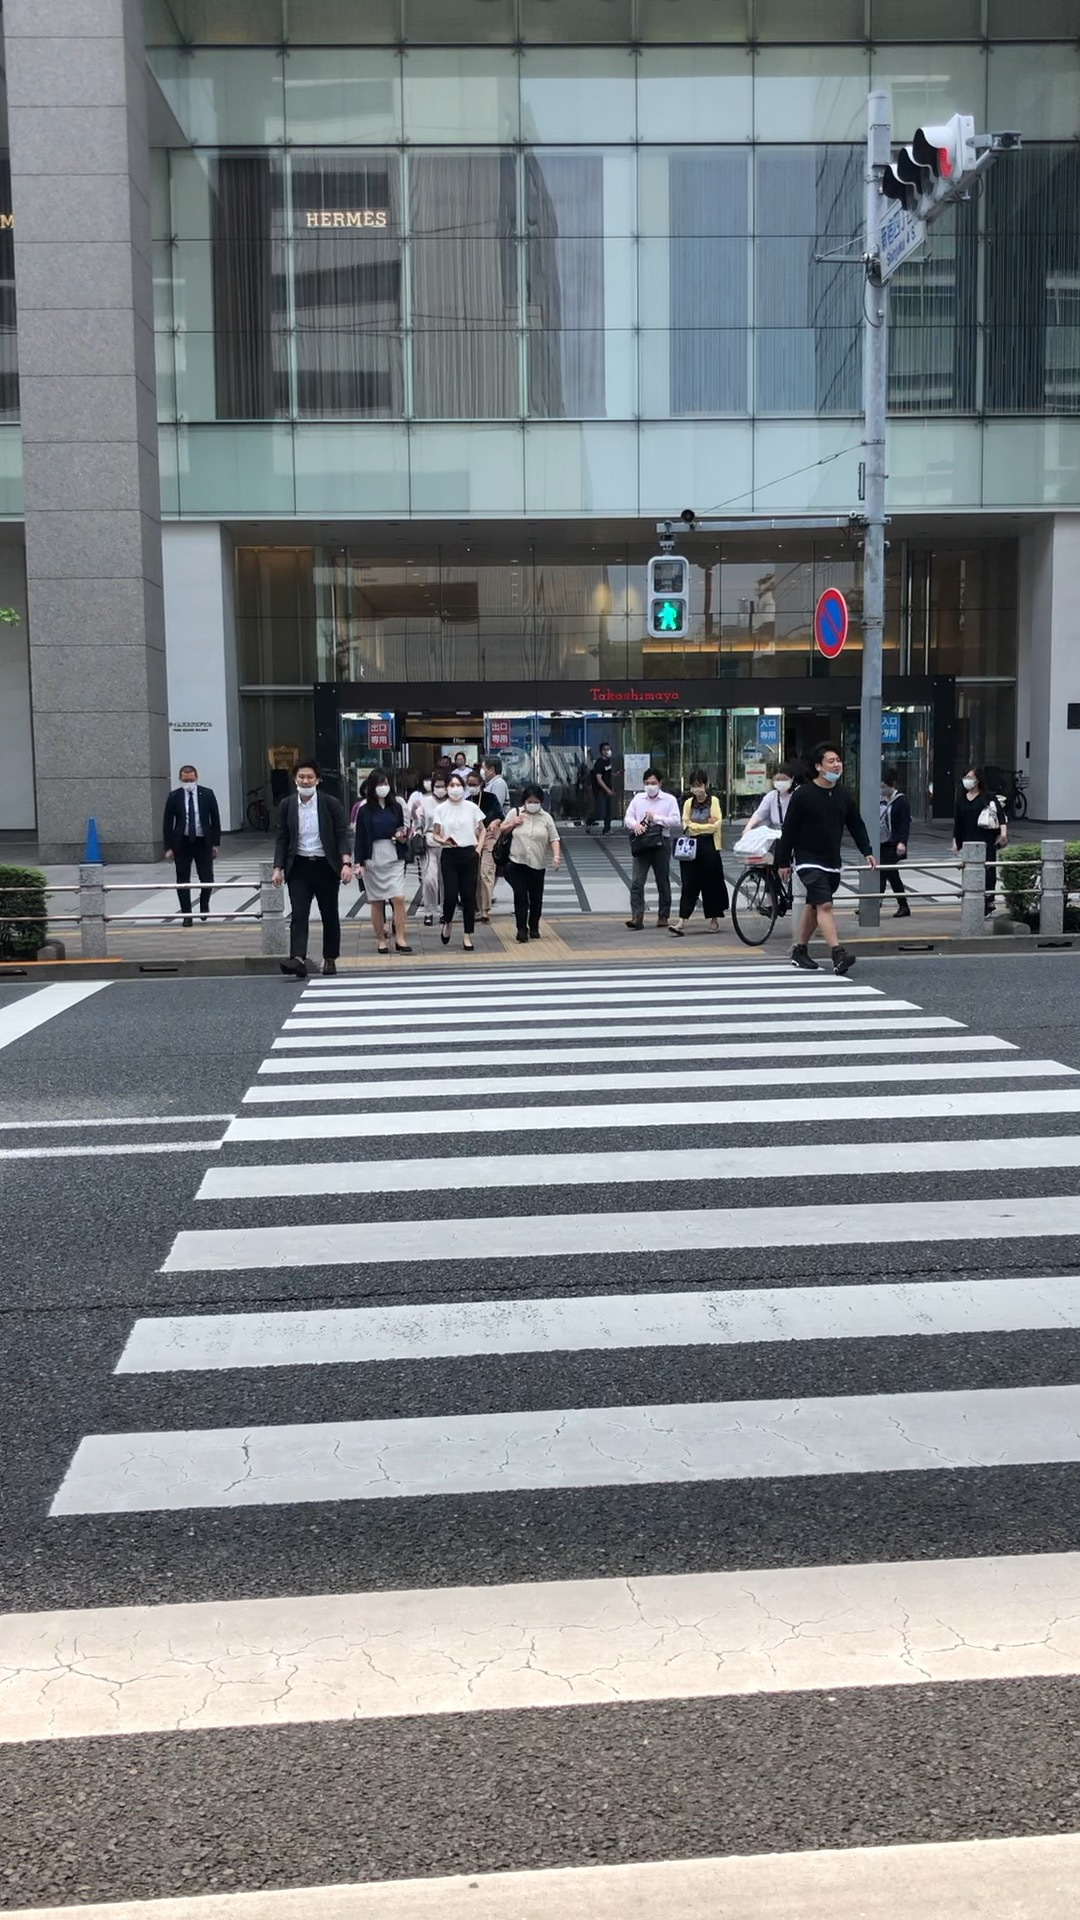green: (646, 555, 688, 637)
